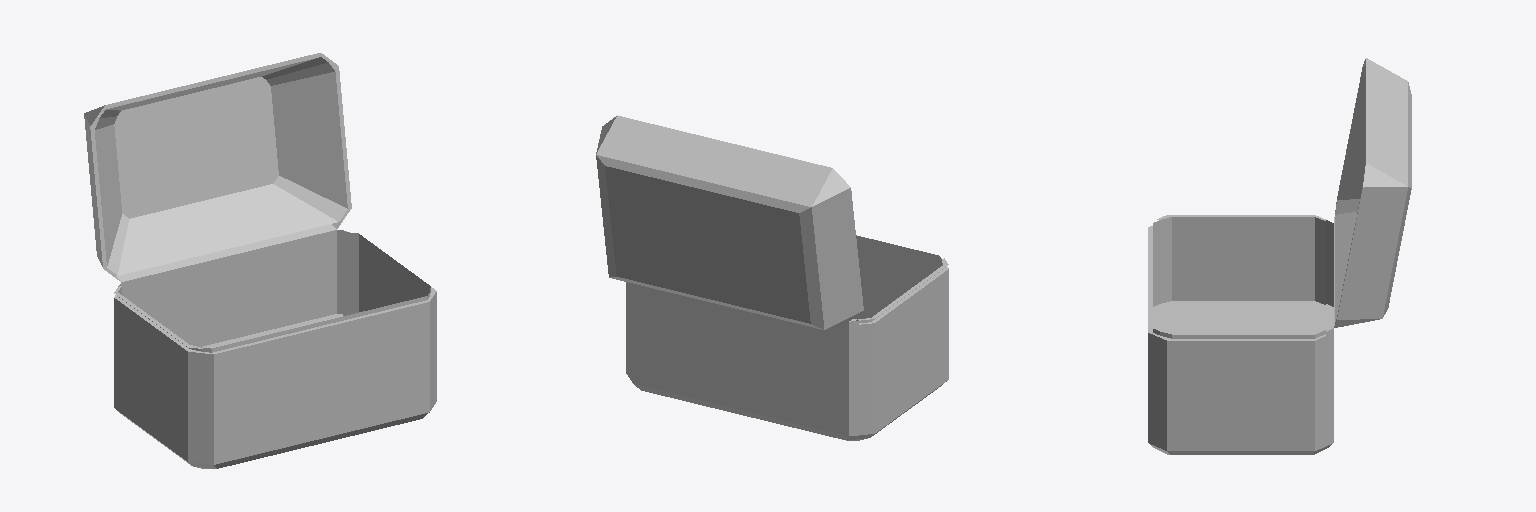
Rendered from lootChestOpened.obj.
3 views of the same model, side by side, from view 1: azimuth 30°, elevation 25°; view 2: azimuth 150°, elevation 25°; view 3: azimuth 270°, elevation 25° (orthographic).
Visible parts, largest first — view 1: Opened_Cube.002; view 2: Opened_Cube.002; view 3: Opened_Cube.002.
Boxes of the visible parts, box(x1,y1,x2,y2) form: Opened_Cube.002: box(84, 53, 436, 468); Opened_Cube.002: box(596, 115, 948, 440); Opened_Cube.002: box(1148, 58, 1411, 454).
Size of the model in its own units: 1.55 by 1.73 by 1.42.